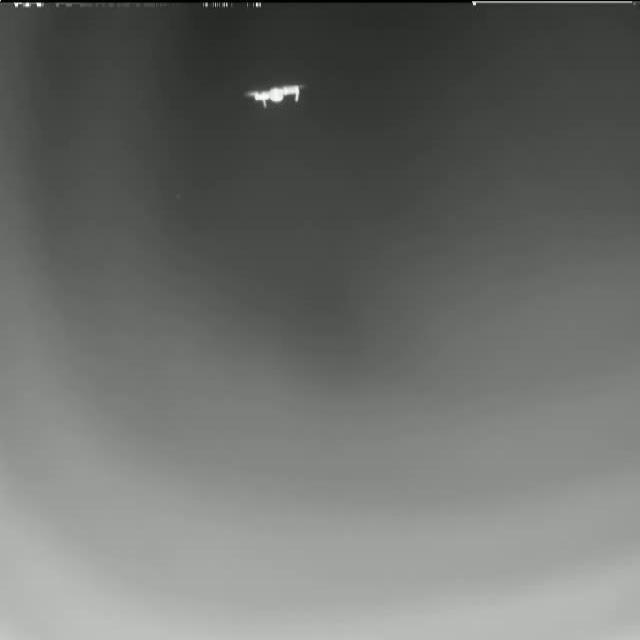DRONE: (245, 79, 309, 109)
